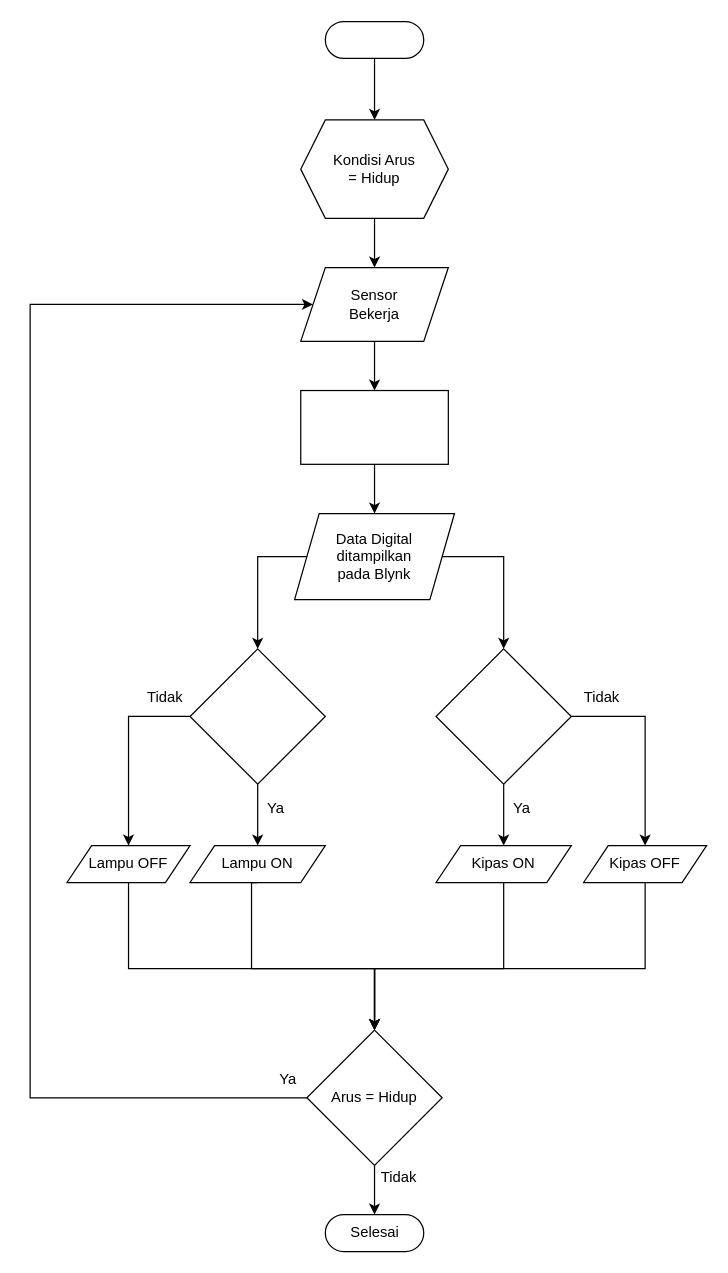
This 728x1273 diagram has some shape labels left out. Here are the shapes that lost their labels. From the top down, the centre of each, then its label:
At [374,39]: "Mulai".
At [374,426]: "Merubah Data Analog -> Digital".
At [257,716]: "Intensitas cahaya = <550LUX".
At [503,716]: "Suhu >= 27".
